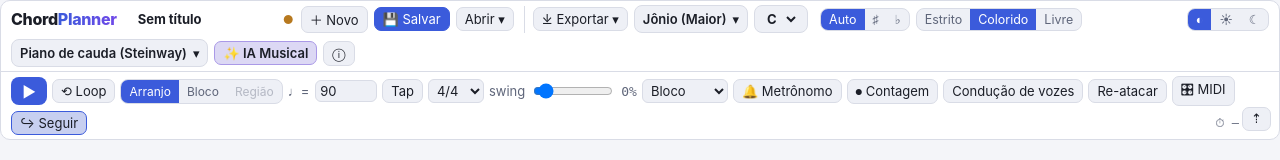
Test: TopBar › fixo: controles visíveis; recolher vira automático com a faixa compacta
Click the button named "Recolher o topo" at (1257, 119), box [1242,107,1271,131]
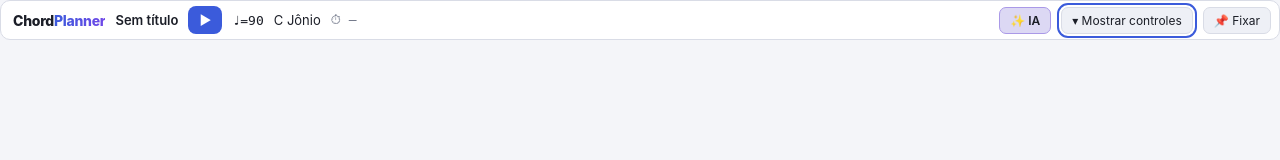
Result: the element named "Barra compacta" is shown at [0,0,1279,40]
